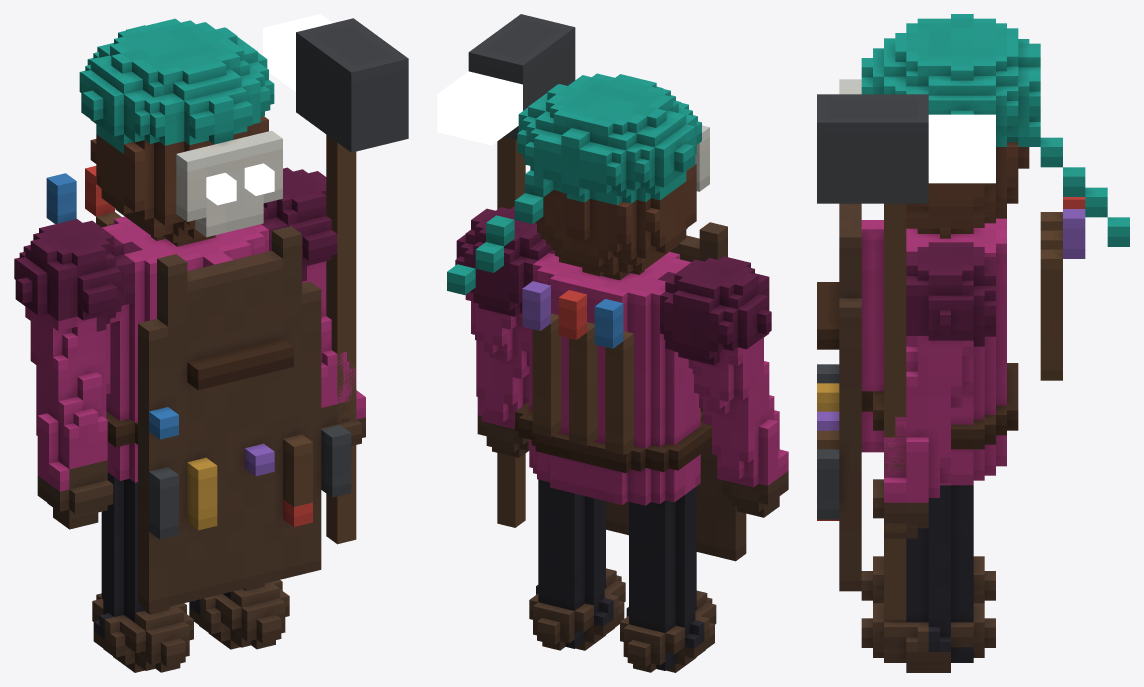
File: u_tidiane__artificier.glb
3 views of the same model, side by side, from view 1: azimuth 30°, elevation 25°; view 2: azimuth 150°, elevation 25°; view 3: azimuth 270°, elevation 25° (orthographic). The views are drawn at different scales.
Parts seen in each view (by area): view 1: tidiane_body, tidiane_weapon, tidiane_weaponglow, tidiane_glow; view 2: tidiane_body, tidiane_weapon, tidiane_weaponglow; view 3: tidiane_body, tidiane_weapon, tidiane_weaponglow.
Boxes of the visible parts, x1=… form: tidiane_body: x1=14, y1=18, x2=365, y2=672; tidiane_weapon: x1=296, y1=18, x2=408, y2=544; tidiane_weaponglow: x1=263, y1=14, x2=332, y2=91; tidiane_glow: x1=206, y1=163, x2=274, y2=205; tidiane_body: x1=447, y1=73, x2=788, y2=672; tidiane_weapon: x1=468, y1=14, x2=575, y2=527; tidiane_weaponglow: x1=437, y1=71, x2=522, y2=145; tidiane_body: x1=817, y1=14, x2=1129, y2=672; tidiane_weapon: x1=817, y1=94, x2=928, y2=619; tidiane_weaponglow: x1=928, y1=114, x2=995, y2=183.
Size of the model in its own units: 0.85 by 1.47 by 0.7.
